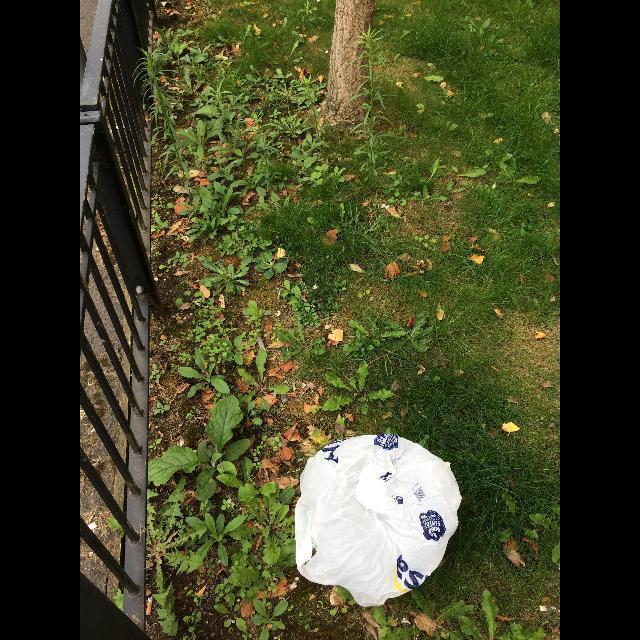Plastic: (294, 434, 462, 606)
